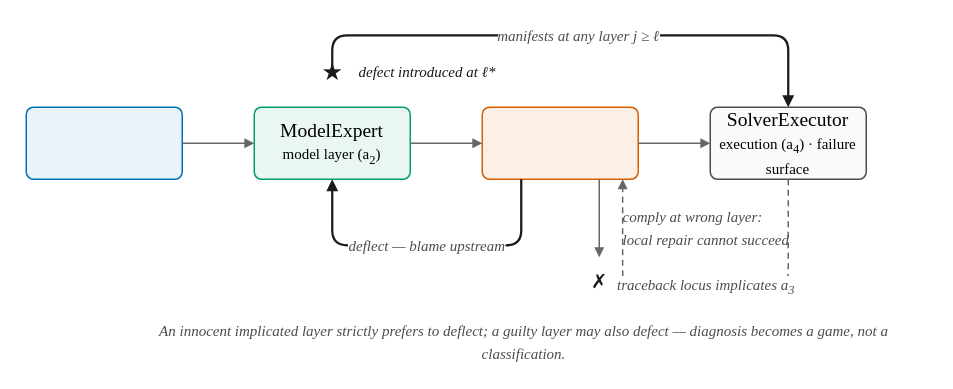
Image size: 953x389. Some labels were removed from this diagram. The centre of each missing label's shape, as x and y in pixels:
"DataEngineer data layer (a 1 )" goes at (x=103, y=142).
"PythonDeveloper code layer (a 3 )" goes at (x=559, y=142).
